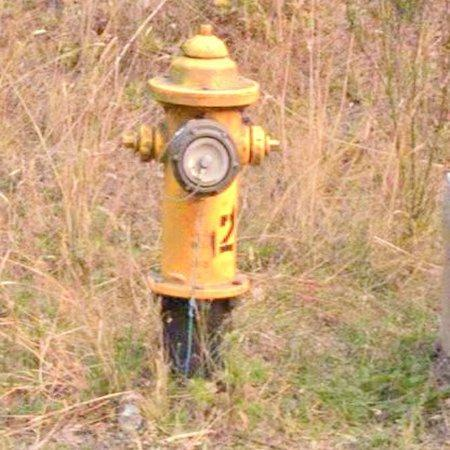a fire hydrant: (123, 24, 280, 375)
